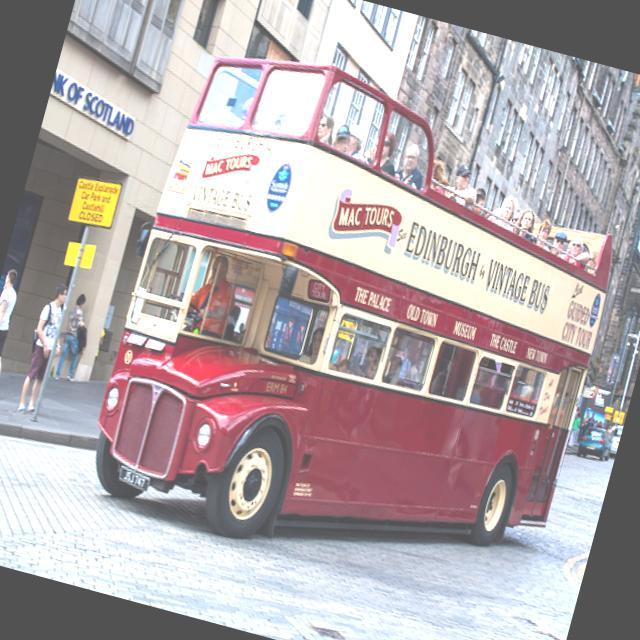Vehicle: (73, 30, 640, 613), (576, 424, 616, 464), (603, 422, 623, 454)
